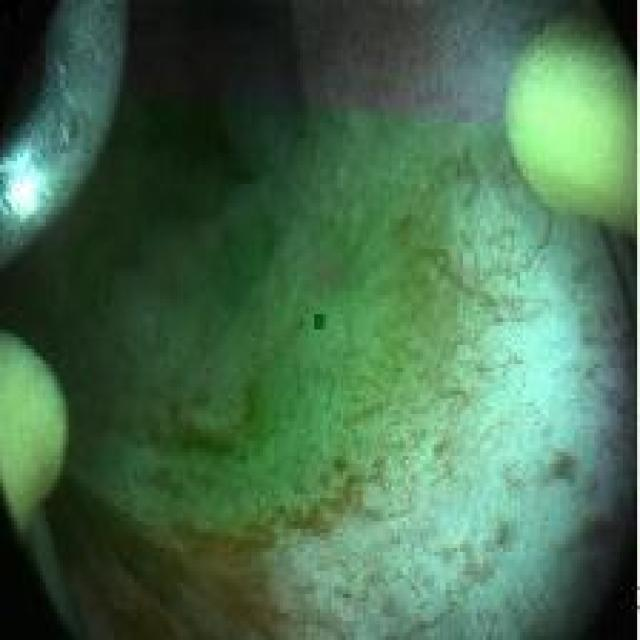color misalignment: (310, 305, 330, 334)
contrast: (120, 3, 298, 238), (2, 4, 48, 145), (0, 251, 54, 334)
instrument: (5, 5, 124, 272), (508, 10, 636, 239), (2, 328, 70, 542)
specularity: (2, 155, 47, 217)
